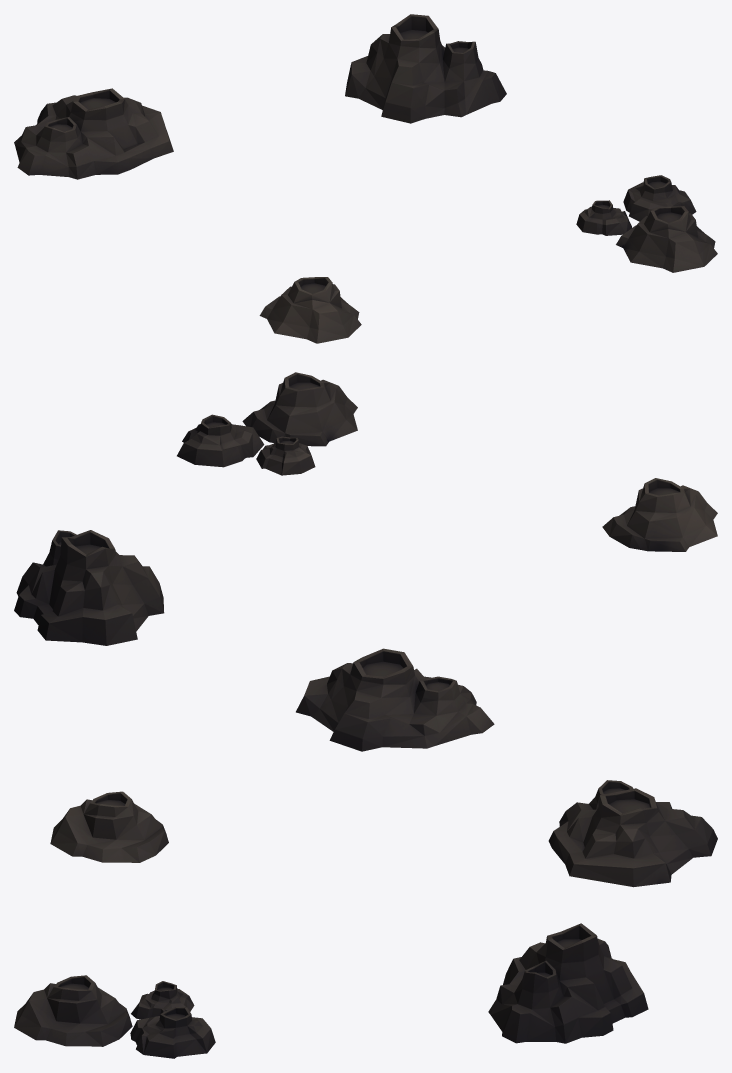
File: Ground_03.FBX
3 views of the same model, one above another, from view 1: azimuth 30°, elevation 25°; view 2: azimuth 150°, elevation 25°; view 3: azimuth 270°, elevation 25° (orthographic). The views are drawn at different scales.
Parts seen in each view (by area): view 1: Ground_03; view 2: Ground_03; view 3: Ground_03.
Boxes of the visible parts, x1,y1,x2,y2 form: Ground_03: (14, 14, 717, 343); Ground_03: (14, 372, 717, 751); Ground_03: (14, 780, 717, 1058).
Bounding box in the file's own units: 16.09 × 2.2 × 18.78.
